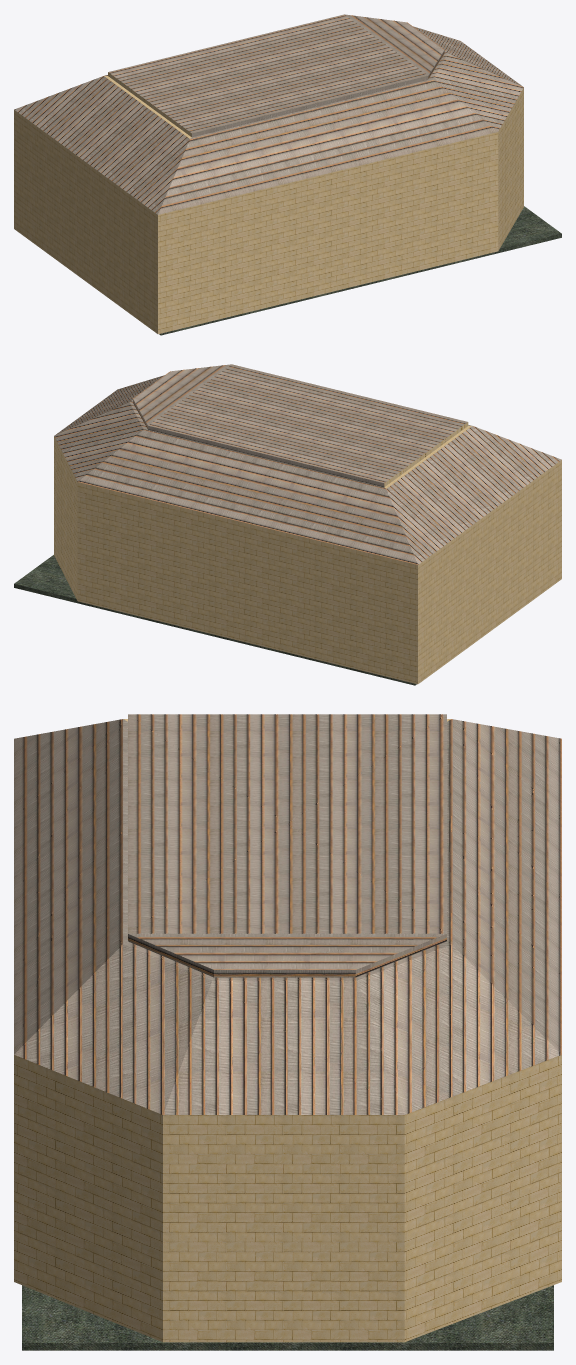
File: LBLT_Complete.obj
3 renders of one model, top to bottom at view 1: azimuth 30°, elevation 25°; view 2: azimuth 150°, elevation 25°; view 3: azimuth 270°, elevation 25°, orthographic. The views are drawn at different scales.
Visible parts, largest first — view 1: Object.2, Object.1, Object.3; view 2: Object.2, Object.1, Object.3; view 3: Object.1, Object.2, Object.3.
Part boxes in pixels (x1,y1,x2,y2): Object.2: [14, 88, 523, 334]; Object.1: [14, 14, 523, 214]; Object.3: [159, 206, 561, 335]; Object.2: [54, 436, 561, 684]; Object.1: [54, 364, 561, 564]; Object.3: [14, 555, 416, 685]; Object.1: [14, 714, 561, 1114]; Object.2: [14, 1055, 561, 1342]; Object.3: [22, 1285, 553, 1350].
Size of the model in its own units: 106 by 41.83 by 65.19.
